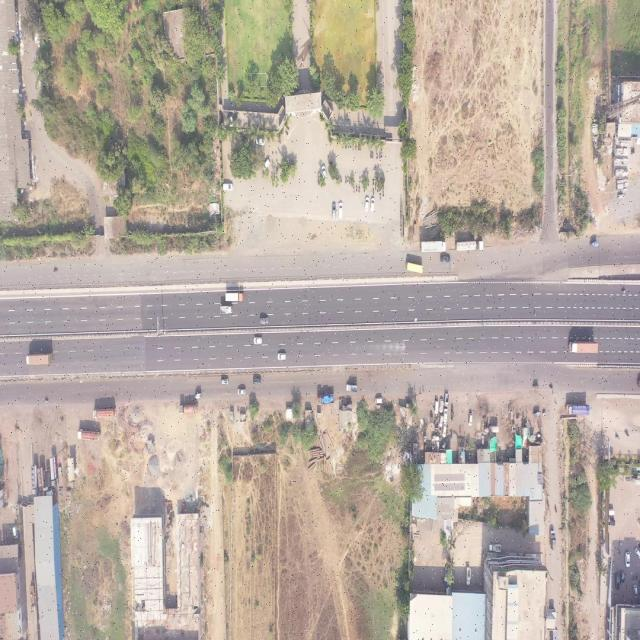3W: (532, 410, 542, 420), (590, 240, 599, 248), (194, 392, 202, 399), (532, 384, 540, 389)
Bus: (405, 260, 423, 274)
Cars: (623, 550, 632, 568), (255, 135, 266, 147), (338, 200, 344, 220), (614, 574, 620, 592), (222, 183, 233, 192), (263, 157, 270, 171), (331, 201, 336, 220), (632, 584, 638, 599), (321, 166, 327, 180), (468, 412, 473, 428), (253, 336, 263, 344), (370, 197, 375, 212), (440, 256, 450, 263), (277, 353, 287, 360), (252, 377, 262, 384), (365, 196, 369, 212), (444, 408, 448, 424), (375, 397, 383, 405), (439, 397, 443, 412), (434, 400, 438, 414), (221, 378, 229, 385), (238, 388, 246, 395), (439, 415, 443, 428)
LCV: (488, 541, 502, 553), (466, 566, 472, 588), (346, 382, 357, 393), (220, 305, 232, 315), (260, 318, 269, 326)
M2W: (548, 382, 553, 390), (358, 175, 362, 184), (44, 397, 49, 404), (554, 506, 558, 514), (621, 289, 626, 295), (354, 144, 358, 151), (372, 177, 375, 186), (379, 192, 382, 201), (340, 175, 343, 184), (348, 176, 351, 184), (358, 186, 361, 194), (356, 183, 358, 193), (372, 149, 374, 159), (345, 174, 347, 183), (381, 150, 383, 159), (273, 171, 275, 180), (376, 152, 378, 160), (353, 185, 355, 193), (53, 269, 57, 273), (350, 144, 352, 151)
MAV: (455, 240, 484, 252)
Truck: (76, 428, 102, 444), (568, 340, 598, 353), (565, 403, 591, 416), (26, 353, 54, 365), (419, 240, 446, 252), (92, 407, 117, 419), (178, 402, 198, 415), (316, 394, 336, 405), (225, 292, 244, 303), (550, 530, 556, 552)
